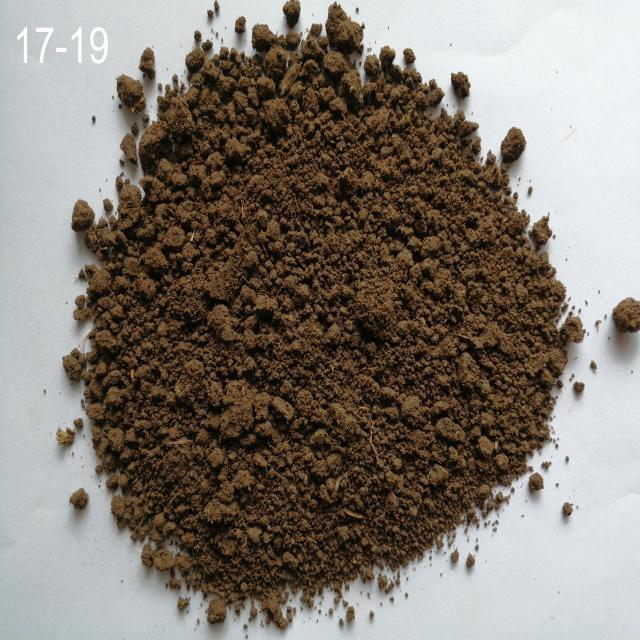soil: (164, 106, 489, 456)
